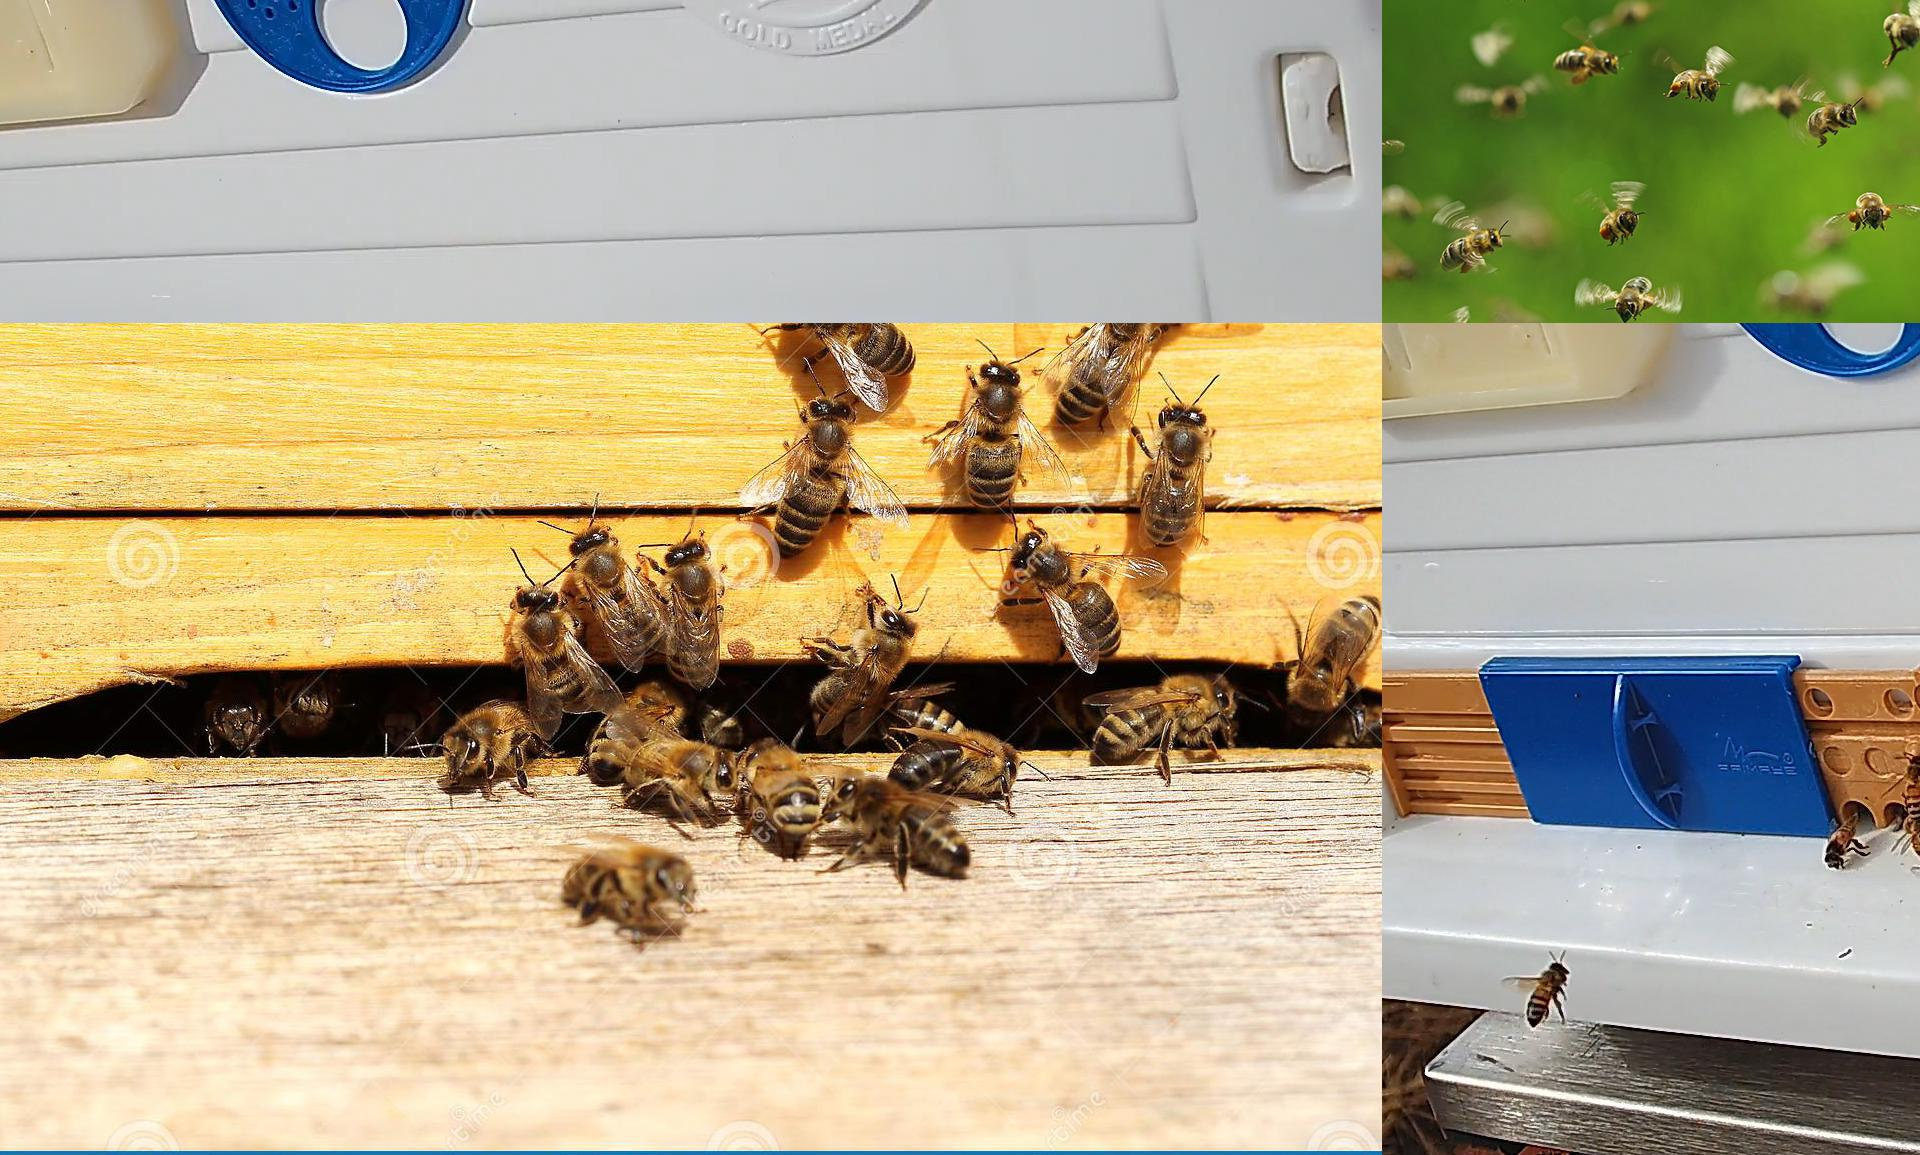bee: (1011, 536, 1119, 657), (837, 778, 974, 870), (1286, 594, 1381, 722), (1090, 679, 1237, 757), (571, 532, 667, 652), (778, 401, 852, 551), (512, 583, 601, 704), (815, 609, 916, 713), (1055, 322, 1157, 422), (1142, 406, 1207, 545), (566, 846, 687, 915), (965, 361, 1023, 503), (743, 738, 823, 841), (597, 679, 676, 778), (828, 694, 978, 746), (448, 706, 544, 787), (889, 730, 1022, 787), (786, 322, 913, 379), (665, 540, 713, 678), (627, 743, 734, 798), (199, 669, 272, 745), (274, 675, 343, 734), (376, 680, 437, 739), (1528, 964, 1568, 1026), (1323, 704, 1381, 743), (1823, 816, 1858, 867), (1812, 106, 1856, 136), (1884, 12, 1919, 49), (1784, 289, 1825, 315), (1899, 809, 1919, 859), (1382, 252, 1415, 278), (1496, 85, 1525, 114), (1773, 86, 1801, 117), (1388, 192, 1415, 218), (1620, 1, 1640, 23), (1856, 92, 1880, 110)
pollenbee: (1439, 230, 1502, 273), (1554, 45, 1617, 84), (1616, 277, 1654, 322), (1849, 192, 1893, 230), (1672, 70, 1720, 102), (1600, 209, 1637, 239), (1902, 756, 1919, 822)
